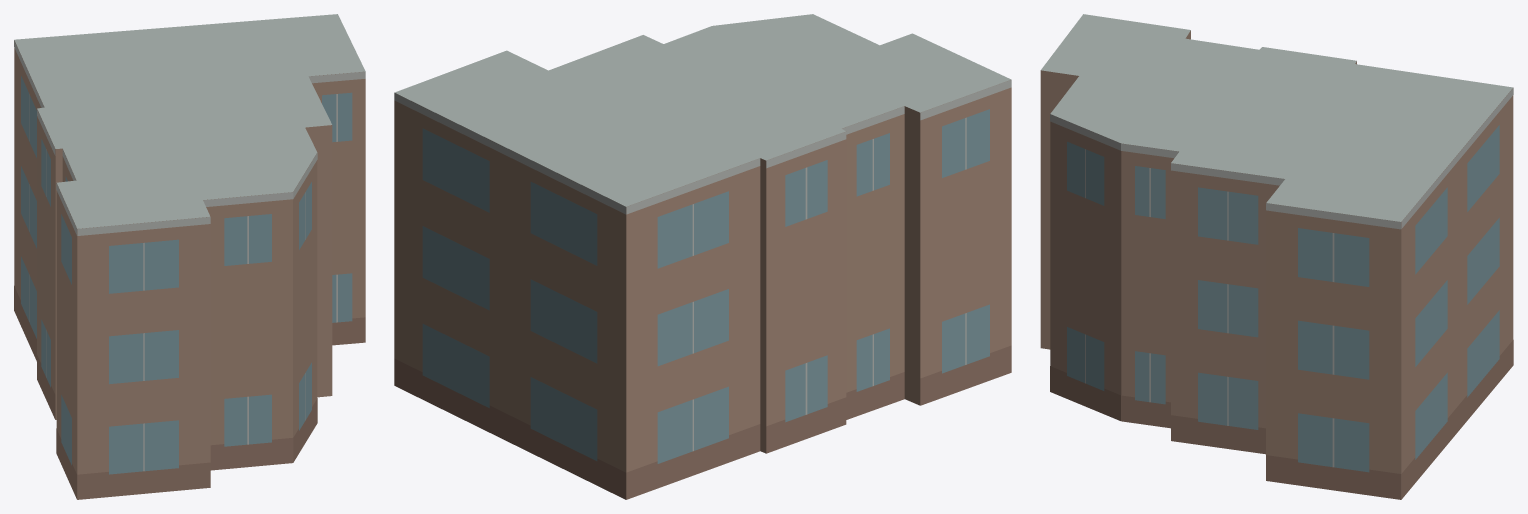
Rendered from survey-upis-32501438.glb.
The picture shows the model from 3 angles, left to right: view 1: azimuth 30°, elevation 25°; view 2: azimuth 150°, elevation 25°; view 3: azimuth 270°, elevation 25°; orthographic projection. The views are drawn at different scales.
Visible parts, largest first — view 1: survey-upis-32501438.tmp; view 2: survey-upis-32501438.tmp; view 3: survey-upis-32501438.tmp.
Boxes of the visible parts, <box> form: survey-upis-32501438.tmp: <box>14,14,365,499</box>; survey-upis-32501438.tmp: <box>394,14,1011,499</box>; survey-upis-32501438.tmp: <box>1040,14,1513,499</box>.
Bounding box in the file's own units: 14.63 × 9.11 × 14.06.
